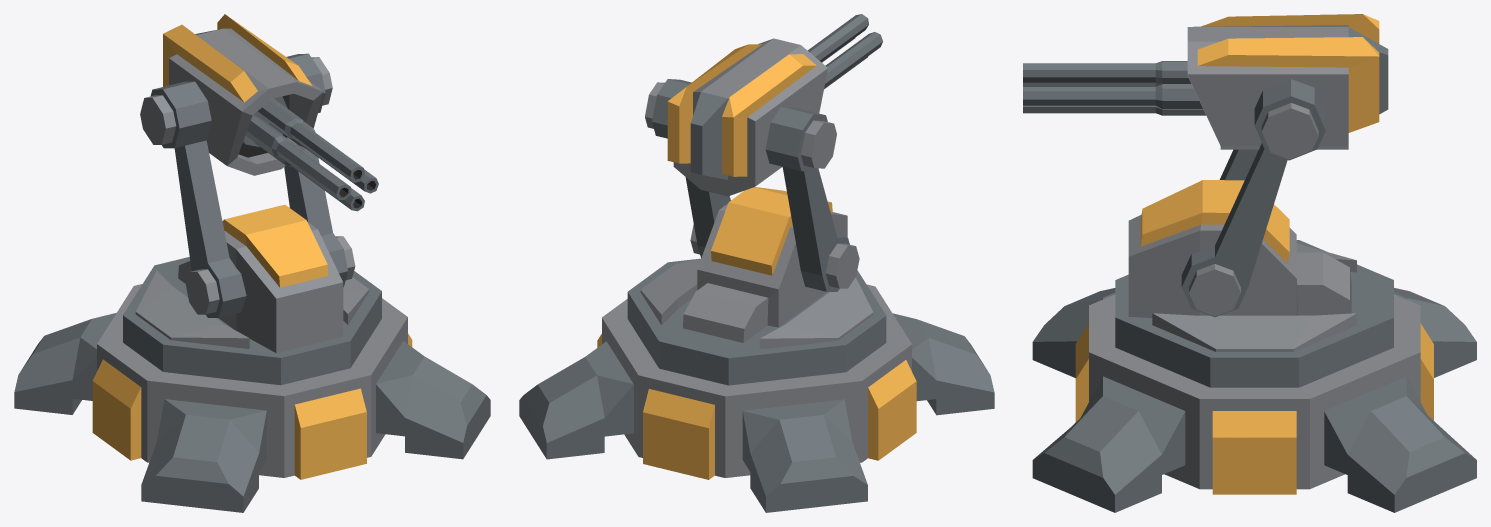
Rendered from Small Gatling Turret.fbx.
3 views of the same model, side by side, from view 1: azimuth 30°, elevation 25°; view 2: azimuth 150°, elevation 25°; view 3: azimuth 270°, elevation 25° (orthographic). The views are drawn at different scales.
Visible parts, largest first — view 1: Base, Turret, TurretHead, Barrels; view 2: Base, Turret, TurretHead, Barrels; view 3: Base, Turret, TurretHead, Barrels.
Part boxes in pixels (left/top/right/bottom): Base: left=14, top=284, right=490, bottom=512; Turret: left=123, top=53, right=381, bottom=385; TurretHead: left=163, top=14, right=323, bottom=175; Barrels: left=243, top=96, right=378, bottom=211; Base: left=519, top=284, right=994, bottom=512; Turret: left=627, top=79, right=886, bottom=385; TurretHead: left=667, top=38, right=827, bottom=196; Barrels: left=808, top=14, right=882, bottom=89; Base: left=1032, top=288, right=1476, bottom=512; Turret: left=1115, top=79, right=1393, bottom=387; TurretHead: left=1187, top=14, right=1388, bottom=149; Barrels: left=1023, top=61, right=1205, bottom=115.
Size of the model in its own units: 66.97 by 65.45 by 68.42.
